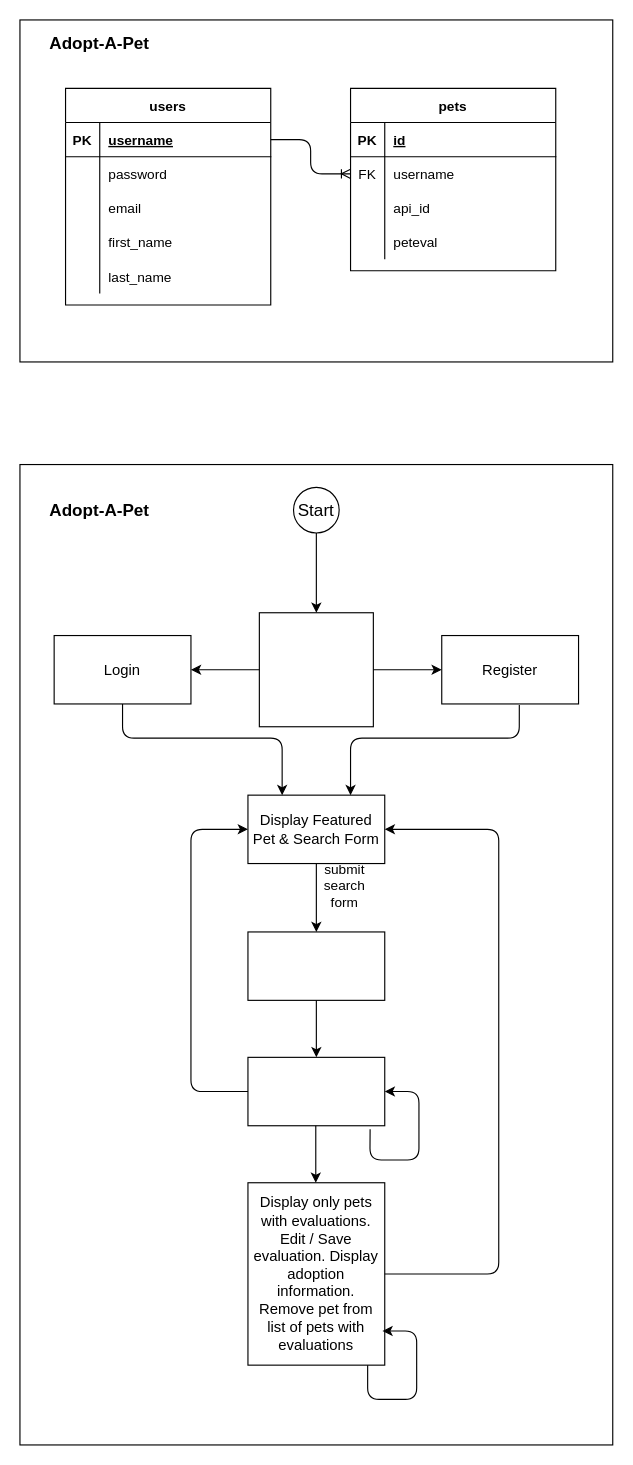
Image size: 633x1465. Some labels were removed from this diagram. Each missing label, with the centre of its shape:
Display adoption information. Enter / Save pet evaluation: (316,1091)
Display home page: (315,669)
Display pets meeting search criteria: (316,965)
